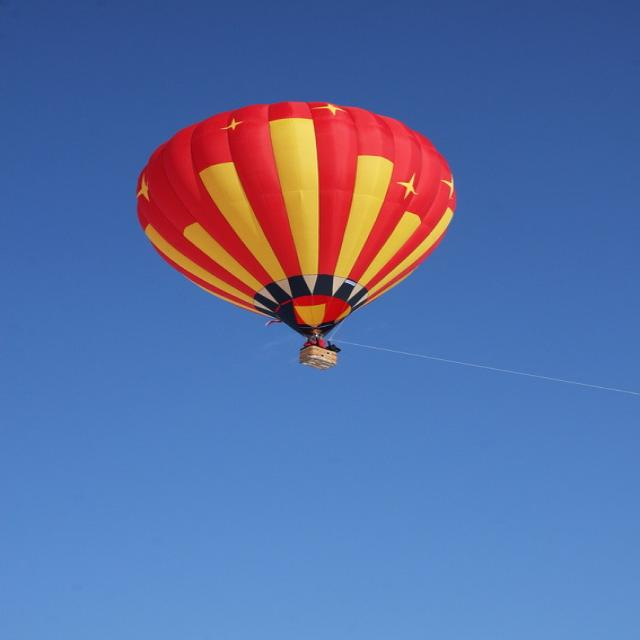balloon: (135, 101, 458, 372)
